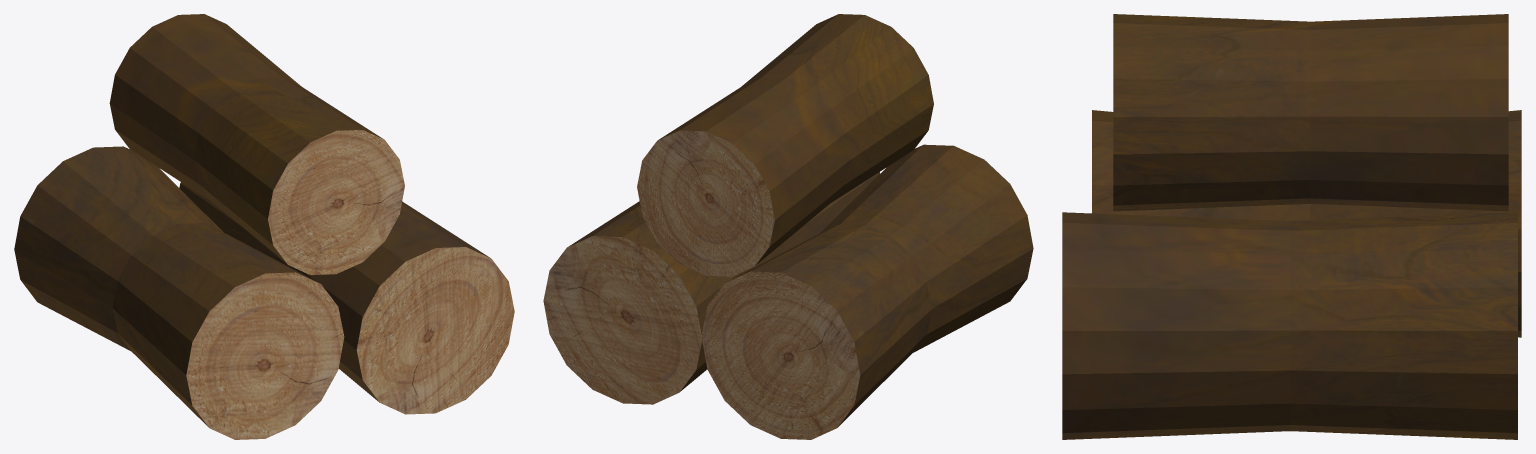
File: pickup_wood.fbx
3 renders of one model, left to right at view 1: azimuth 30°, elevation 25°; view 2: azimuth 150°, elevation 25°; view 3: azimuth 270°, elevation 25°, orthographic. The views are drawn at different scales.
Visible parts, largest first — view 1: Cylinder; view 2: Cylinder; view 3: Cylinder.
Boxes of the visible parts, box(x1,y1,x2,y2) form: Cylinder: box(14, 14, 514, 439); Cylinder: box(543, 14, 1033, 439); Cylinder: box(1062, 14, 1521, 439).
Bounding box in the file's own units: 80.12 × 69.38 × 80.64.
